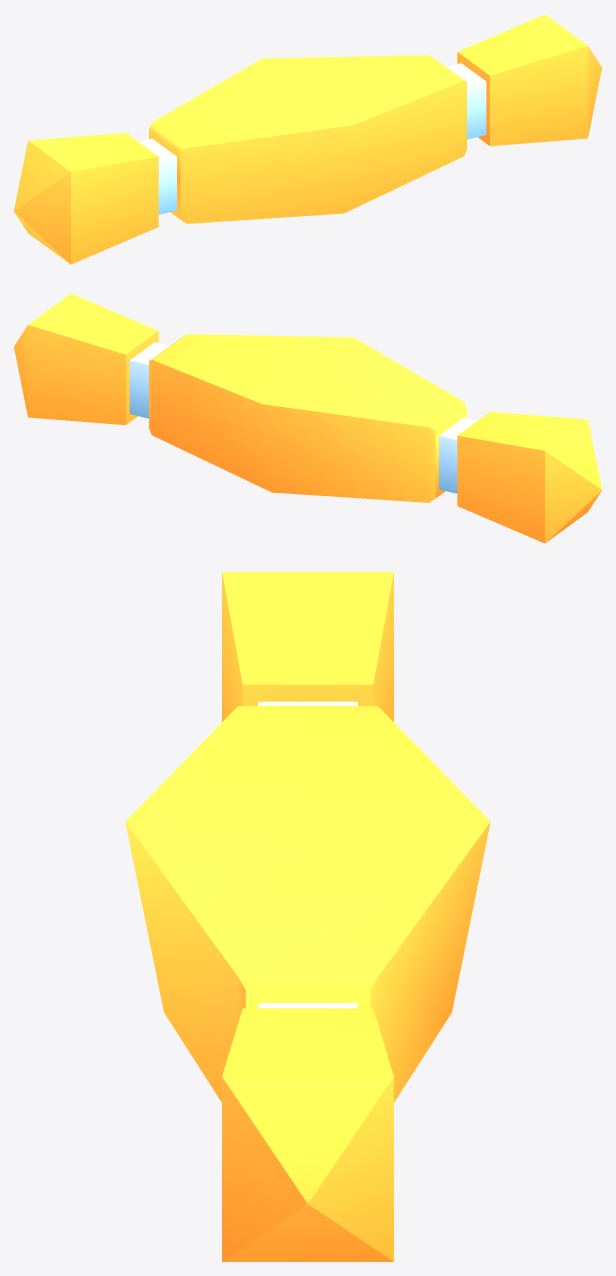
The model's file is gold_and_steel_guard_034.glb.
3 views of the same model, one above another, from view 1: azimuth 30°, elevation 25°; view 2: azimuth 150°, elevation 25°; view 3: azimuth 270°, elevation 25° (orthographic). The views are drawn at different scales.
Parts seen in each view (by area): view 1: gold_and_steel_guard_034; view 2: gold_and_steel_guard_034; view 3: gold_and_steel_guard_034.
Boxes of the visible parts, x1=… form: gold_and_steel_guard_034: x1=14, y1=14, x2=601, y2=264; gold_and_steel_guard_034: x1=14, y1=293, x2=601, y2=543; gold_and_steel_guard_034: x1=125, y1=572, x2=490, y2=1261.
Size of the model in its own units: 9.16 by 1.42 by 2.47.
Materials: 1 (1 with a texture image).
